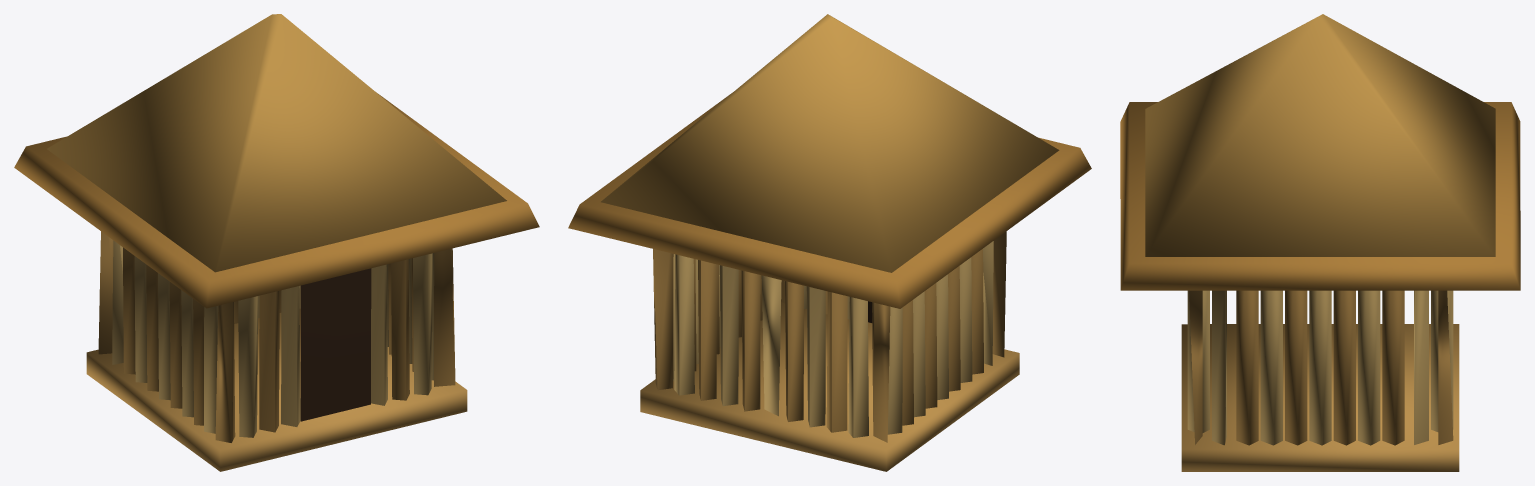
File: hut_lod.glb
3 views of the same model, side by side, from view 1: azimuth 30°, elevation 25°; view 2: azimuth 150°, elevation 25°; view 3: azimuth 270°, elevation 25° (orthographic). The views are drawn at different scales.
Visible parts, largest first — view 1: hut_lod; view 2: hut_lod; view 3: hut_lod.
Part boxes in pixels (bbox=[...]): hut_lod: bbox=[14, 14, 539, 471]; hut_lod: bbox=[568, 14, 1091, 471]; hut_lod: bbox=[1120, 14, 1520, 471].
Size of the model in its own units: 4.28 by 4.64 by 4.28.
